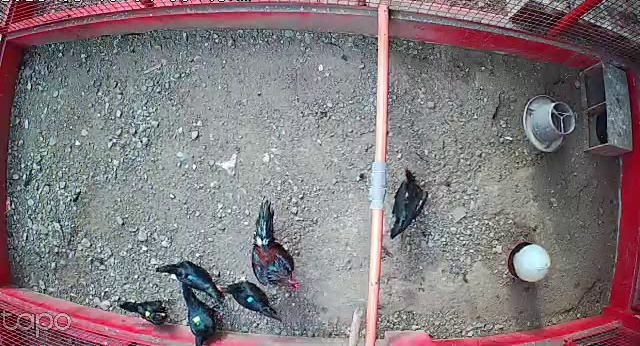Chicken: (152, 249, 227, 307), (214, 277, 284, 324), (390, 164, 432, 237), (178, 280, 223, 346), (115, 292, 177, 331), (114, 291, 115, 293)
Rooster: (243, 195, 301, 292)
Saddle_Color_Blue: (245, 296, 254, 302)
Saddle_Color_Yellow: (146, 310, 149, 316)
Saddle_Color_YellowGreen: (190, 313, 203, 328)
